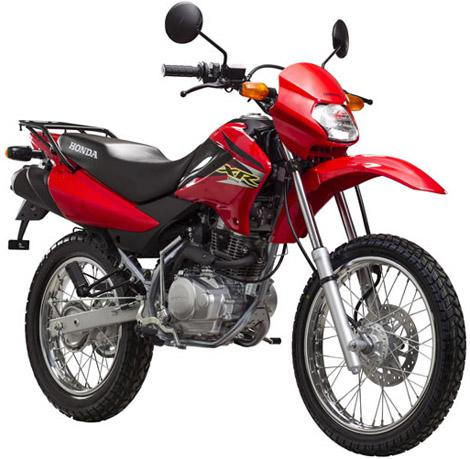motorbike: (7, 1, 466, 458)
